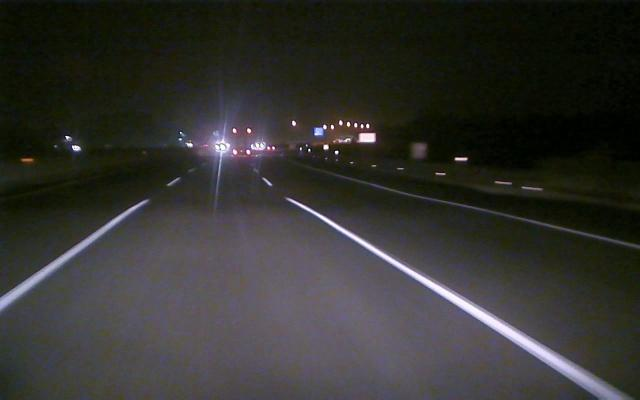lane: (258, 175, 628, 396), (2, 182, 172, 310), (391, 188, 640, 250)
